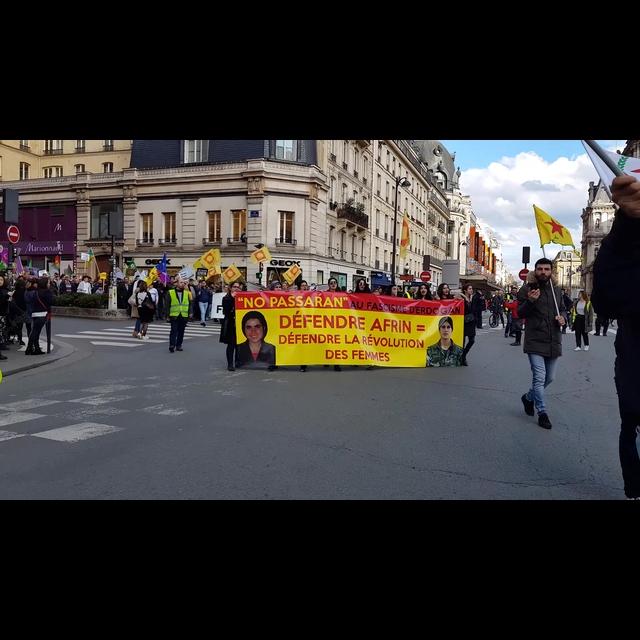YPG: (532, 205, 581, 250)
